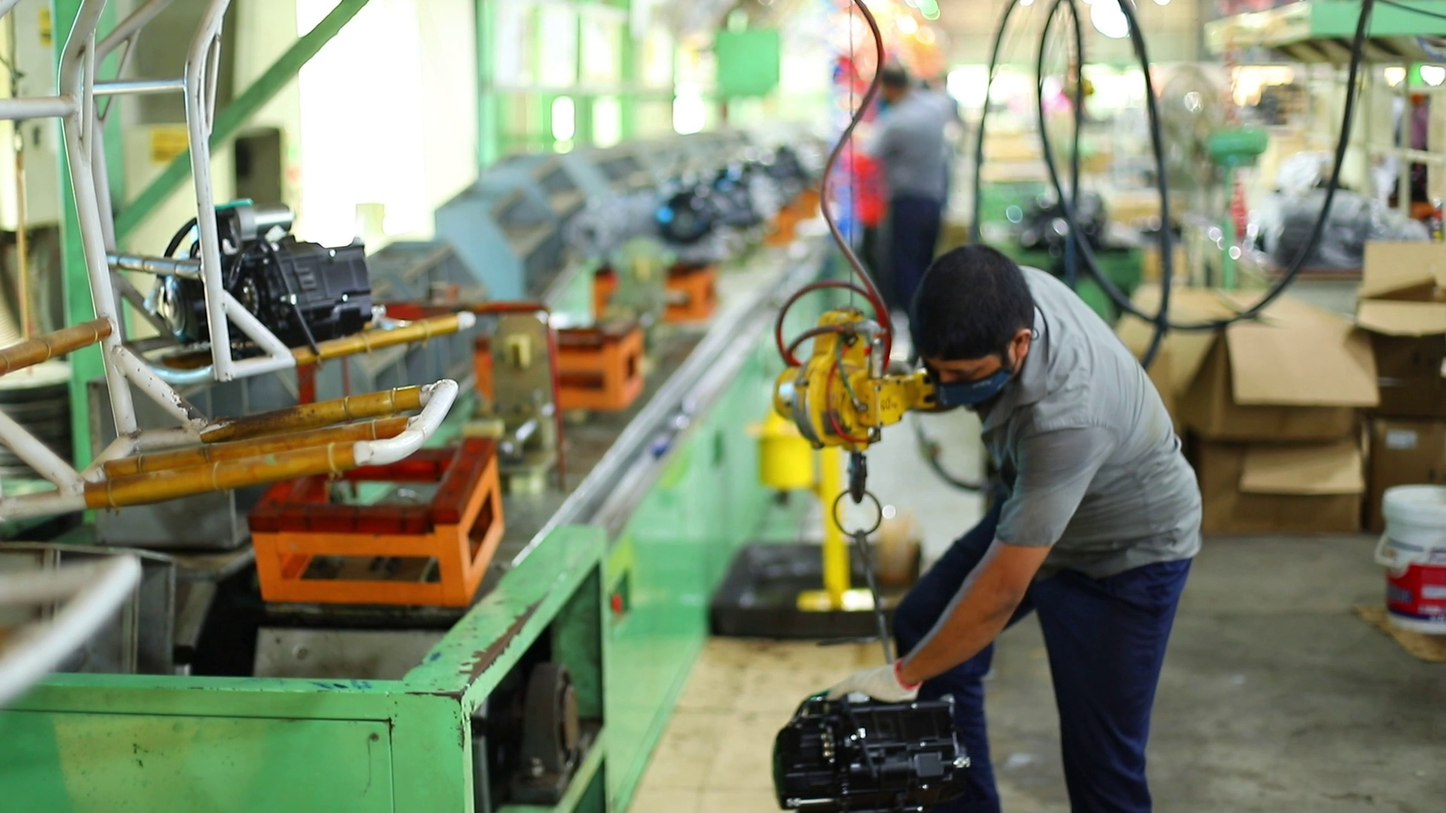mask: (935, 367, 1009, 410)
person: (822, 238, 1207, 813), (826, 56, 953, 336)
